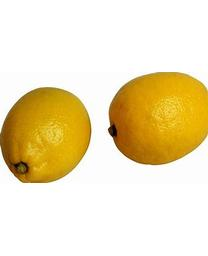lemon: (109, 72, 207, 166), (1, 88, 90, 184)
